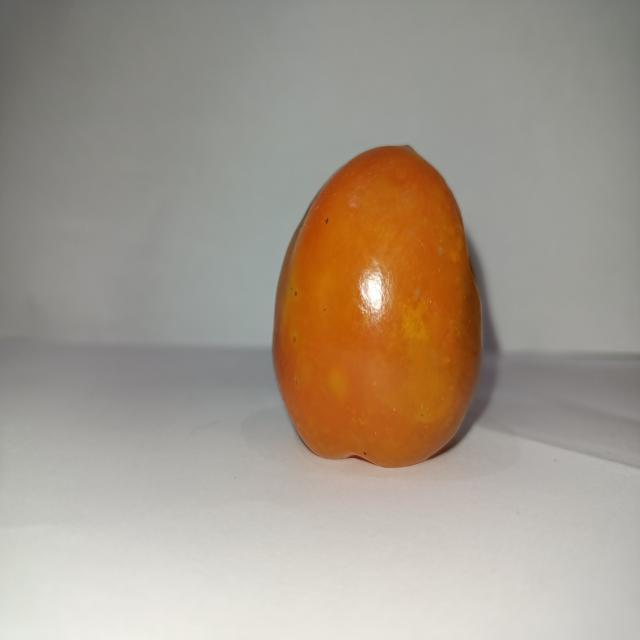Red: (270, 142, 484, 468)
